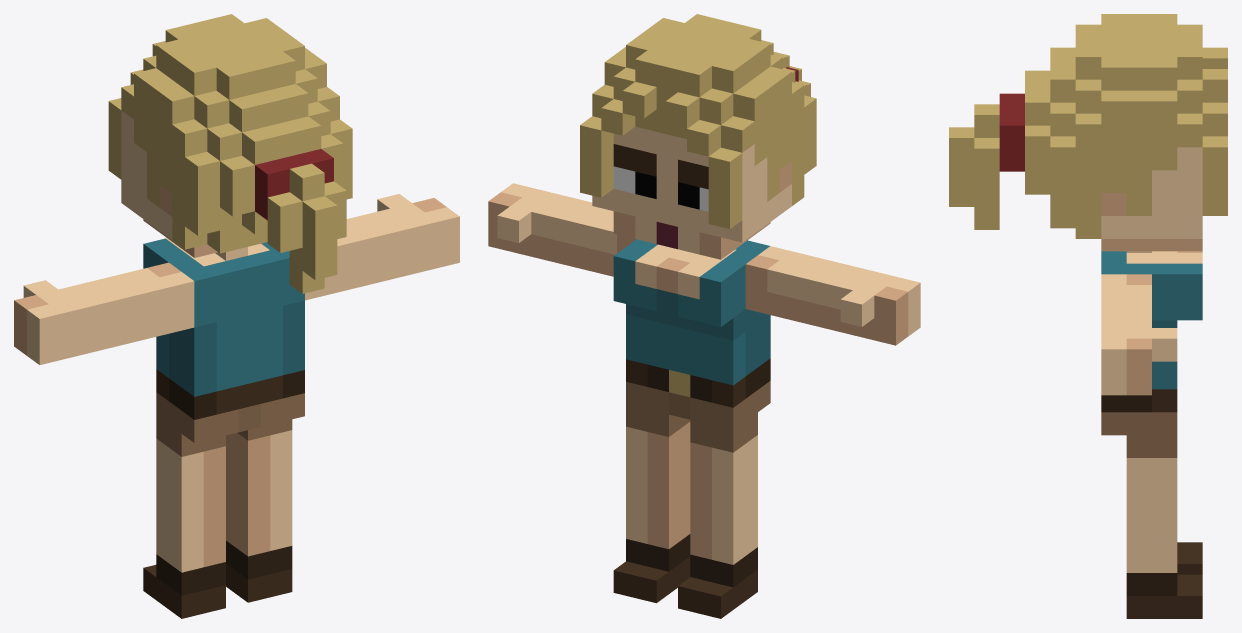
The model's file is Player - Gril.obj.
3 views of the same model, side by side, from view 1: azimuth 30°, elevation 25°; view 2: azimuth 150°, elevation 25°; view 3: azimuth 270°, elevation 25° (orthographic). The views are drawn at different scales.
Parts seen in each view (by area): view 1: Player - Gril; view 2: Player - Gril; view 3: Player - Gril.
Part boxes in pixels (x1,y1,x2,y2): Player - Gril: [14, 14, 459, 618]; Player - Gril: [488, 14, 920, 618]; Player - Gril: [949, 14, 1227, 618].
Size of the model in its own units: 19 by 24 by 11.
